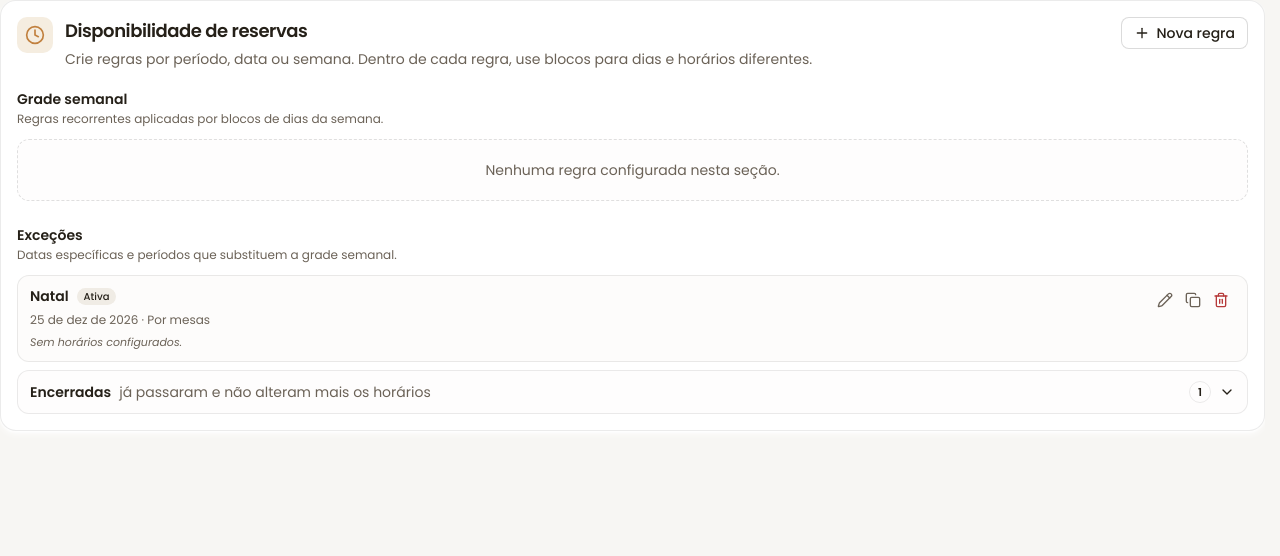
ReservationScheduleRulesCard › agrupa excecoes que ja passaram e nao as anuncia como ativas
The image size is (1280, 556).
Check: the text "Encerradas" is shown, box top-left (30, 382), bottom-right (111, 402)
Check: the text "Dia dos namorados" is not shown
Click the text "Encerradas": coordinates (230, 392) top-left (30, 382), bottom-right (431, 402)
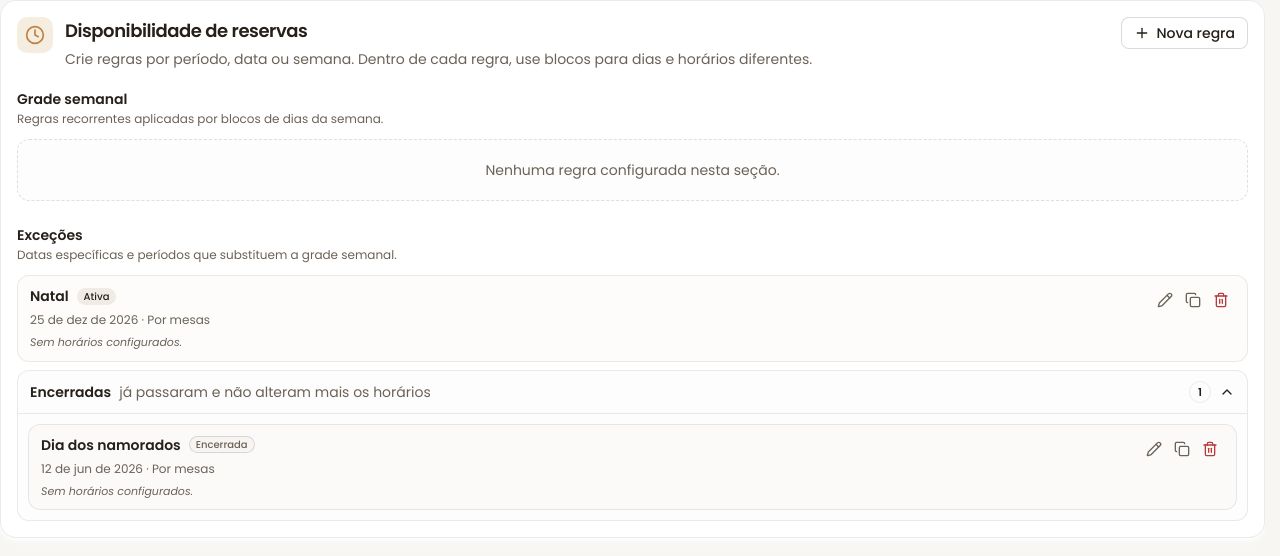
Check: the text "Dia dos namorados" is shown, box top-left (41, 434), bottom-right (181, 454)
Check: the text "Encerrada" is shown, box top-left (189, 436), bottom-right (255, 453)
